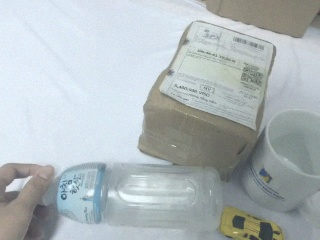bottle: (25, 159, 222, 232)
box: (140, 20, 276, 178), (204, 1, 319, 39)
cup: (239, 106, 319, 213)
toy_car: (218, 206, 284, 240)
